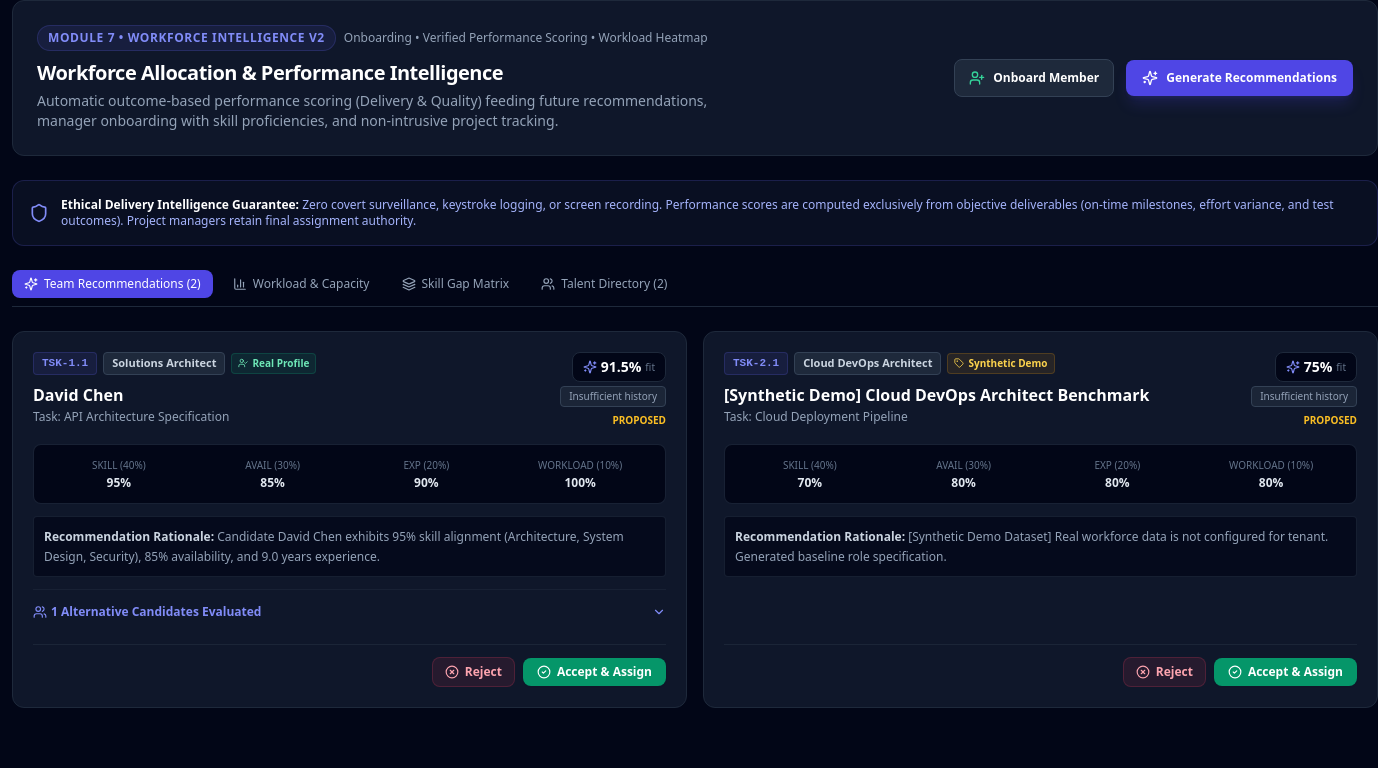
Test: WorkforceView Component › switches to Workload & Capacity subtab and displays capacity metrics and over-allocation alert
Click the button "Workload & Capacity" at (301, 284), box 221,270 -> 382,298
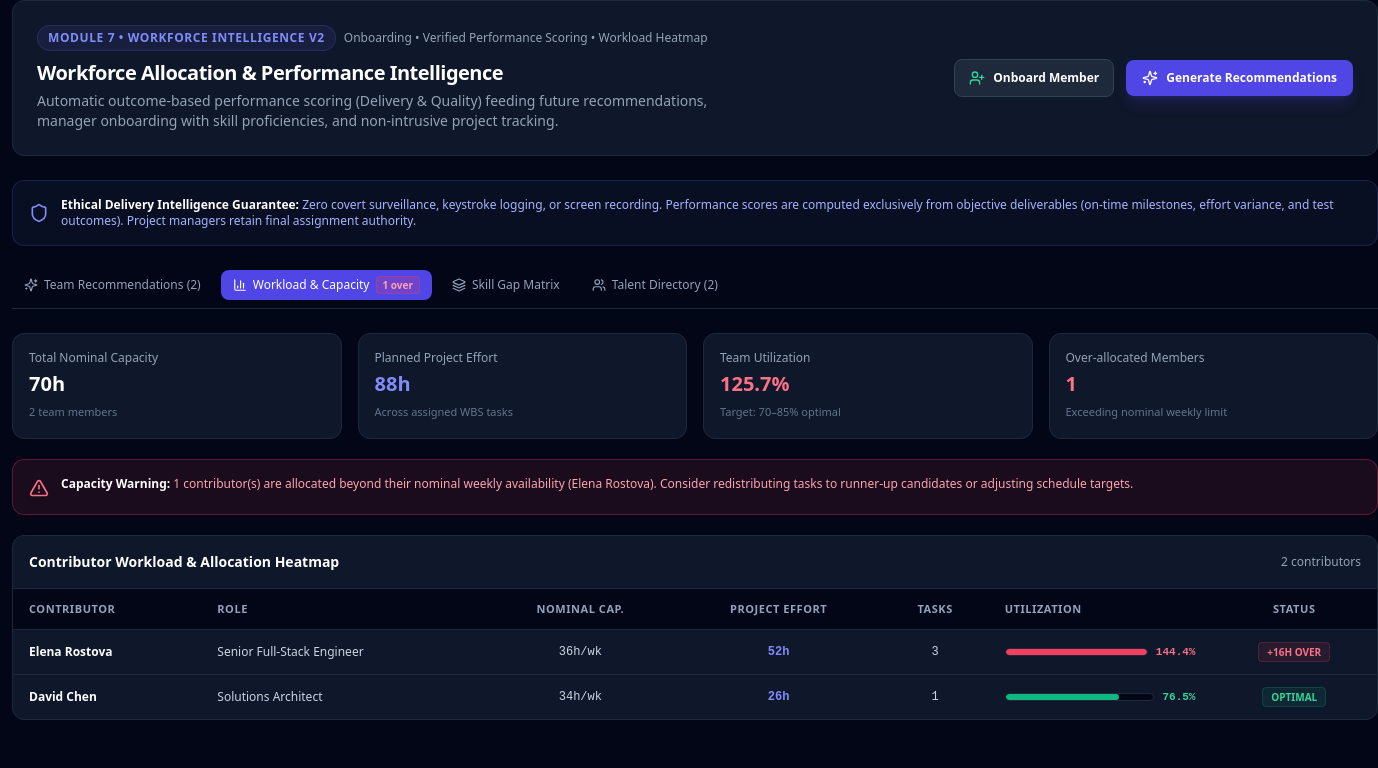
Check: the text "70h" is shown, box 29,370 -> 65,397
Check: the text "88h" is shown, box 374,370 -> 410,397
Check: the text "125.7%" is shown, box 720,370 -> 790,397
